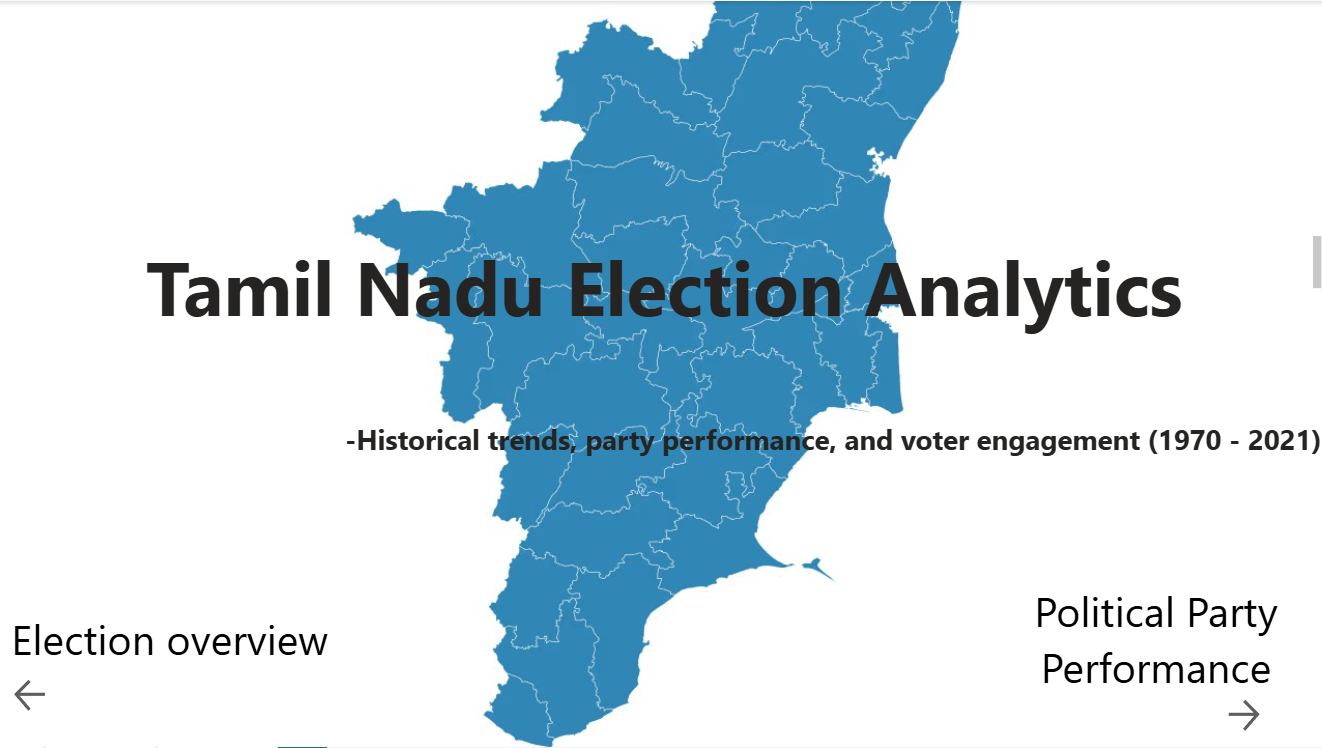

The page's visual inventory and layout, read from the dashboard file:
{"tool":"powerbi","page":{"name":"Home","canvas":[1280,720],"ordinal":0},"visuals":[{"type":"textbox","box":[9.6,222.3,1270.7,108.4],"z":0},{"type":"textbox","box":[188,399.3,1092.3,61.7],"z":1000},{"type":"shape","box":[9.6,540.7,308.7,149.6],"z":2000},{"type":"shape","box":[952.3,540.7,328,149.6],"z":3000},{"type":"actionButton","box":[9.6,650.4,100.2,39.8],"z":4000},{"type":"actionButton","box":[1180.1,669.6,100.2,39.8],"z":5000}]}

Visuals, with their boxes in screenshot pixels (x1, y1, x2, y2), scaled from the page's 1280x720 canvas onto the 1322x748 screenshot:
textbox: 10,231,1321,344
textbox: 194,415,1321,479
shape: 10,562,329,717
shape: 984,562,1321,717
actionButton: 10,676,113,717
actionButton: 1219,696,1321,737
